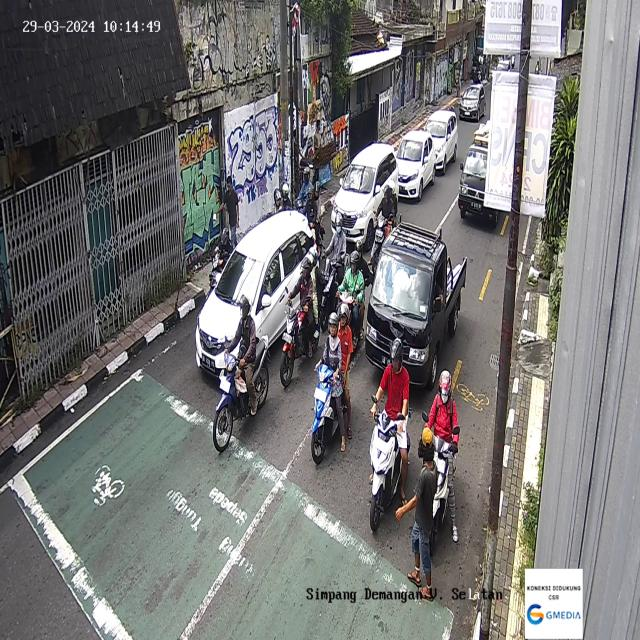car: (195, 209, 319, 381), (331, 140, 399, 252), (396, 129, 436, 202), (423, 109, 458, 175), (458, 83, 486, 121)
motorcycle: (213, 294, 271, 453), (368, 336, 411, 532), (421, 370, 461, 556), (311, 304, 354, 464), (279, 250, 322, 388), (335, 240, 371, 350), (319, 212, 350, 332), (367, 181, 398, 277), (300, 181, 326, 260), (207, 226, 235, 296), (295, 164, 317, 211)
truck: (364, 219, 468, 390), (458, 119, 501, 230)
